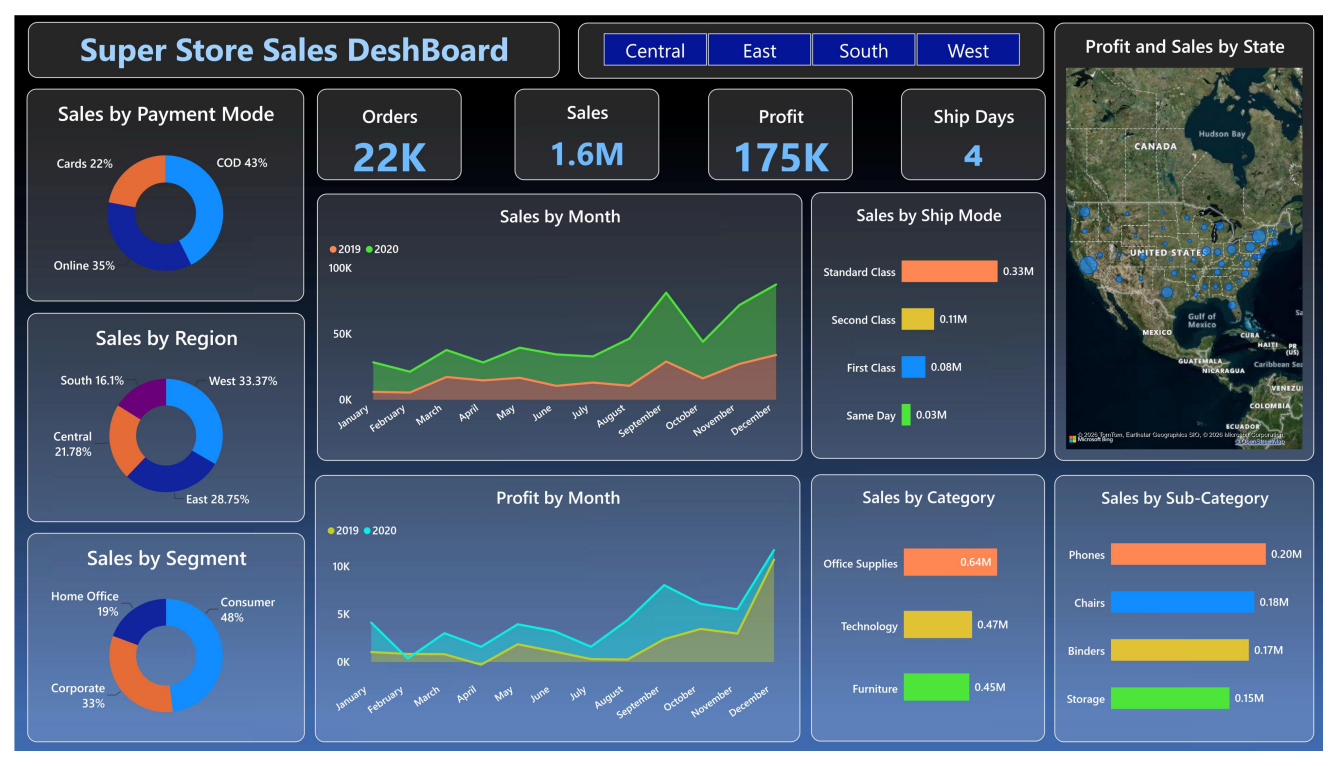

Layout of this report page (visuals, bound fields, positions):
{"tool":"powerbi","page":{"name":"Page 1","canvas":[1920,1080],"ordinal":0},"visuals":[{"type":"clusteredBarChart","title":"Sales by Category","fields":{"Category":["SuperStore_Sales_Dataset.Category"],"Y":["Sum(SuperStore_Sales_Dataset.Sales)"]},"box":[1168.5,674.2,343.4,391.9],"z":0},{"type":"barChart","title":"Sales by Sub-Category","fields":{"Category":["SuperStore_Sales_Dataset.Sub-Category"],"Y":["Sum(SuperStore_Sales_Dataset.Sales)"]},"box":[1525.7,675.2,380.9,391.7],"z":1000},{"type":"clusteredBarChart","title":"Sales by Ship Mode","fields":{"Category":["SuperStore_Sales_Dataset.Ship Mode"],"Y":["Sum(SuperStore_Sales_Dataset.Sales)"]},"box":[1168.6,259.7,344.1,391.7],"z":2000},{"type":"stackedAreaChart","title":"Sales by Month","fields":{"Category":["SuperStore_Sales_Dataset.Order Date.Variation.Date Hierarchy.Month","SuperStore_Sales_Dataset.Order Date.Variation.Date Hierarchy.Day"],"Series":["SuperStore_Sales_Dataset.Order Date.Variation.Date Hierarchy.Year"],"Y":["Sum(SuperStore_Sales_Dataset.Sales)"]},"box":[443.6,261.9,711.9,391.9],"z":3000},{"type":"stackedAreaChart","title":"Profit by Month","fields":{"Category":["SuperStore_Sales_Dataset.Order Date.Variation.Date Hierarchy.Month"],"Series":["SuperStore_Sales_Dataset.Order Date.Variation.Date Hierarchy.Year"],"Y":["Sum(SuperStore_Sales_Dataset.Profit)"]},"box":[441.5,675.2,712,391.7],"z":4000},{"type":"donutChart","title":"Sales by Segment","fields":{"Category":["SuperStore_Sales_Dataset.Segment"],"Y":["Sum(SuperStore_Sales_Dataset.Sales)"]},"box":[19.5,759.6,406.9,307.3],"z":5000},{"type":"donutChart","title":"Sales by Payment Mode","fields":{"Category":["SuperStore_Sales_Dataset.Payment Mode"],"Y":["Sum(SuperStore_Sales_Dataset.Sales)"]},"box":[18,108,406.9,311.6],"z":6000},{"type":"slicer","fields":{"Values":["SuperStore_Sales_Dataset.Region"]},"box":[827,10.8,683.9,82.2],"z":7000},{"type":"textbox","title":"Super Store Sales DeshBoard","box":[20,10,780,82],"z":8000},{"type":"cardVisual","title":"Sales","fields":{"Data":["Sum(SuperStore_Sales_Dataset.Sales)"]},"box":[734,108,212.1,134.2],"z":9000},{"type":"cardVisual","title":"Orders","fields":{"Data":["Sum(SuperStore_Sales_Dataset.Quantity)"]},"box":[443.6,108.2,212.1,134.2],"z":10000},{"type":"cardVisual","title":"Profit","fields":{"Data":["Sum(SuperStore_Sales_Dataset.Profit)"]},"box":[1018,108,212.1,134.2],"z":11000},{"type":"cardVisual","title":"Ship Days","fields":{"Data":["Avg(SuperStore_Sales_Dataset.AvgDelivery)"]},"box":[1300.6,108.2,212.1,134.2],"z":12000},{"type":"donutChart","title":"Sales by Region","fields":{"Category":["SuperStore_Sales_Dataset.Region"],"Y":["Sum(SuperStore_Sales_Dataset.Sales)"]},"box":[19.5,437.2,406.9,307.3],"z":13000},{"type":"map","title":"Profit and Sales by State","fields":{"Category":["SuperStore_Sales_Dataset.State"],"Size":["Sum(SuperStore_Sales_Dataset.Sales)"]},"box":[1525.7,10.8,380.9,642.8],"z":14000}]}

Visuals, with their boxes in screenshot pixels (x1, y1, x2, y2), scaled from the page's 1920x1080 canvas onto the 1337x766 screenshot:
"Sales by Category" clusteredBarChart: x1=814, y1=478, x2=1053, y2=756
"Sales by Sub-Category" barChart: x1=1062, y1=479, x2=1328, y2=757
"Sales by Ship Mode" clusteredBarChart: x1=814, y1=184, x2=1053, y2=462
"Sales by Month" stackedAreaChart: x1=309, y1=186, x2=805, y2=464
"Profit by Month" stackedAreaChart: x1=307, y1=479, x2=803, y2=757
"Sales by Segment" donutChart: x1=14, y1=539, x2=297, y2=757
"Sales by Payment Mode" donutChart: x1=13, y1=77, x2=296, y2=298
slicer - SuperStore_Sales_Dataset.Region: x1=576, y1=8, x2=1052, y2=66
"Super Store Sales DeshBoard" textbox: x1=14, y1=7, x2=557, y2=65
"Sales" cardVisual: x1=511, y1=77, x2=659, y2=172
"Orders" cardVisual: x1=309, y1=77, x2=457, y2=172
"Profit" cardVisual: x1=709, y1=77, x2=857, y2=172
"Ship Days" cardVisual: x1=906, y1=77, x2=1053, y2=172
"Sales by Region" donutChart: x1=14, y1=310, x2=297, y2=528
"Profit and Sales by State" map: x1=1062, y1=8, x2=1328, y2=464
